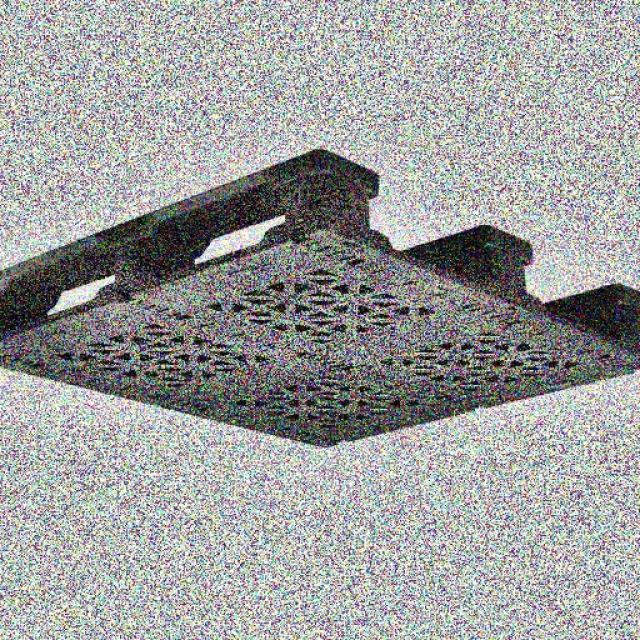non-igps: (0, 142, 640, 453)
